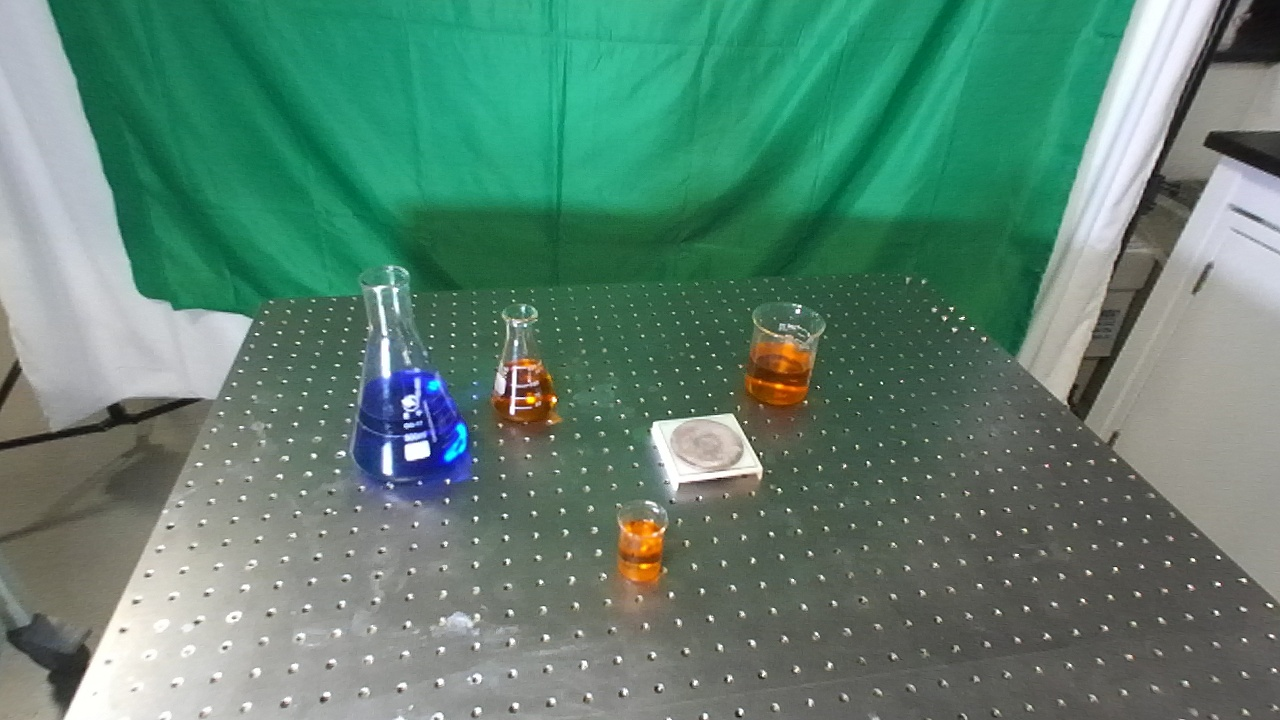glass: (347, 260, 473, 487), (740, 301, 830, 411), (487, 301, 558, 427), (612, 499, 669, 588)
plate: (647, 411, 768, 496)
